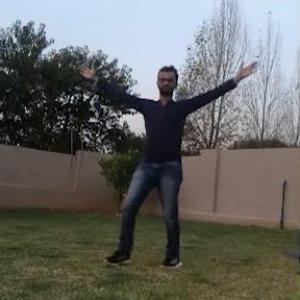takeoff: (105, 74, 276, 270)
